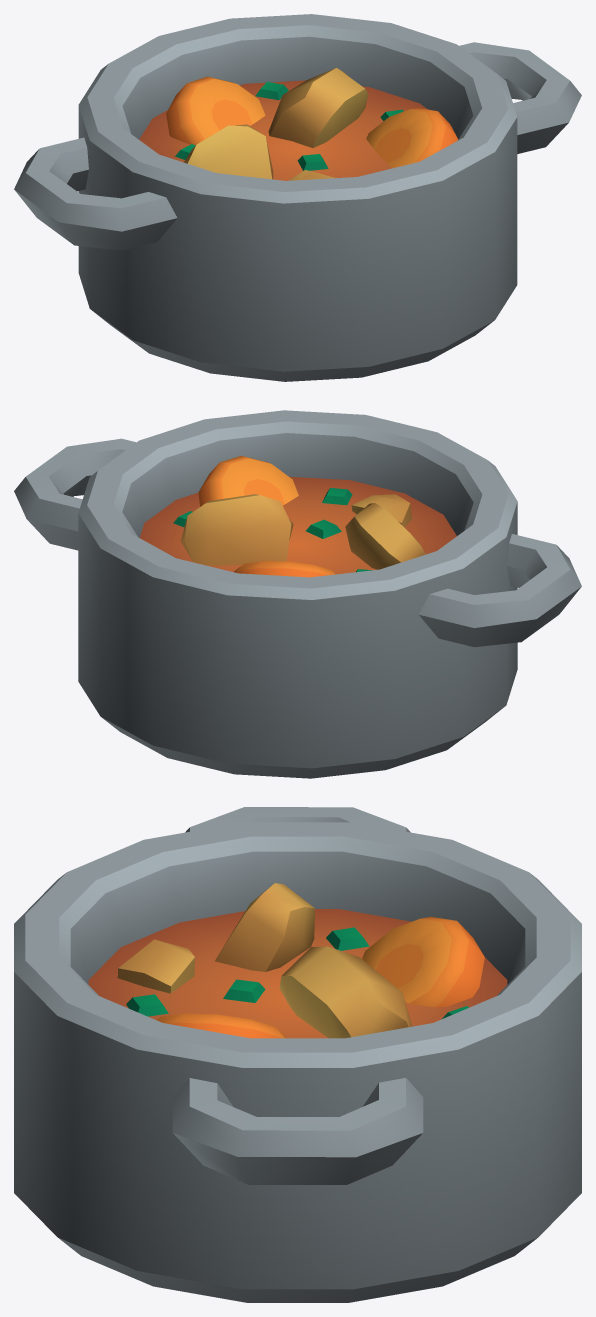
File: pot_A_stew.obj
3 views of the same model, one above another, from view 1: azimuth 30°, elevation 25°; view 2: azimuth 150°, elevation 25°; view 3: azimuth 270°, elevation 25° (orthographic). The views are drawn at different scales.
Parts seen in each view (by area): view 1: pot_A_stew_Cylinder.231; view 2: pot_A_stew_Cylinder.231; view 3: pot_A_stew_Cylinder.231.
Boxes of the visible parts, <box> form: pot_A_stew_Cylinder.231: <box>14,14,581,381</box>; pot_A_stew_Cylinder.231: <box>14,410,581,778</box>; pot_A_stew_Cylinder.231: <box>14,807,581,1302</box>.
Size of the model in its own units: 1.4 by 0.5159 by 1.
1 material, 1 textured.
